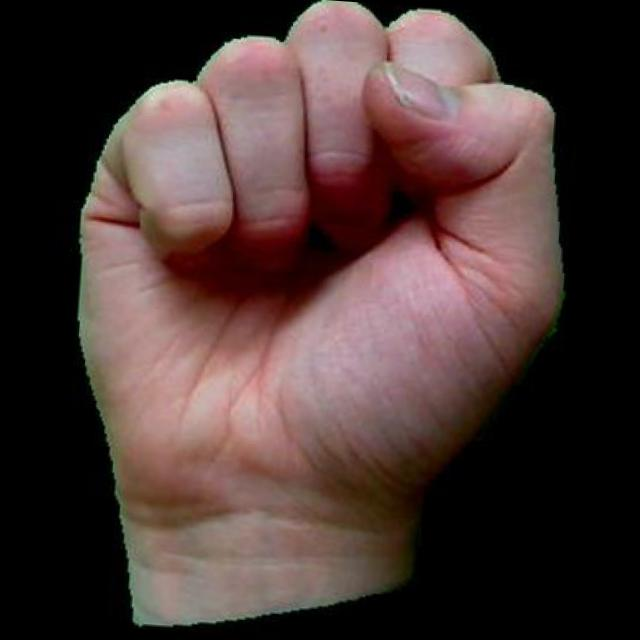s: (26, 0, 594, 640)
